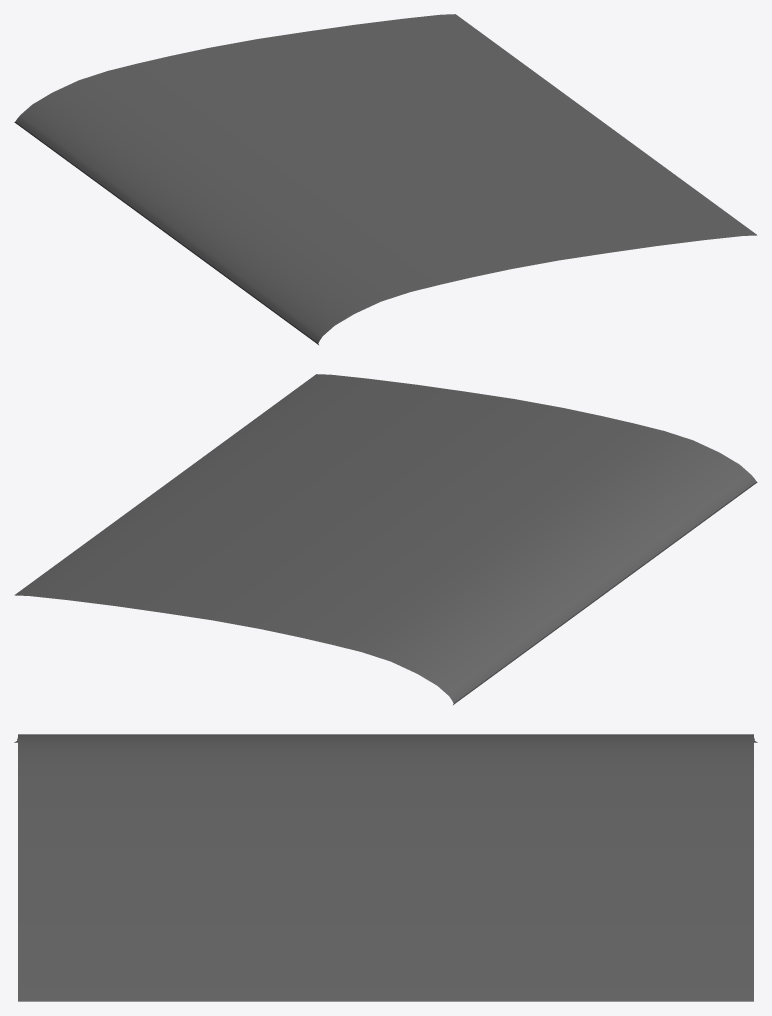
The model's file is Book_20_book_20_0.obj.
The picture shows the model from 3 angles, top to bottom: view 1: azimuth 30°, elevation 25°; view 2: azimuth 150°, elevation 25°; view 3: azimuth 270°, elevation 25°; orthographic projection. The views are drawn at different scales.
Size of the model in its own units: 0.2492 by 0.0163 by 0.2998.
1 material, 1 textured.
